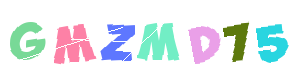5: (214, 0, 294, 80)
7: (197, 0, 277, 80)
D: (149, 0, 229, 80)
G: (32, 0, 112, 80)
M: (69, 0, 149, 80), (106, 0, 186, 80)
Z: (78, 0, 158, 80)
